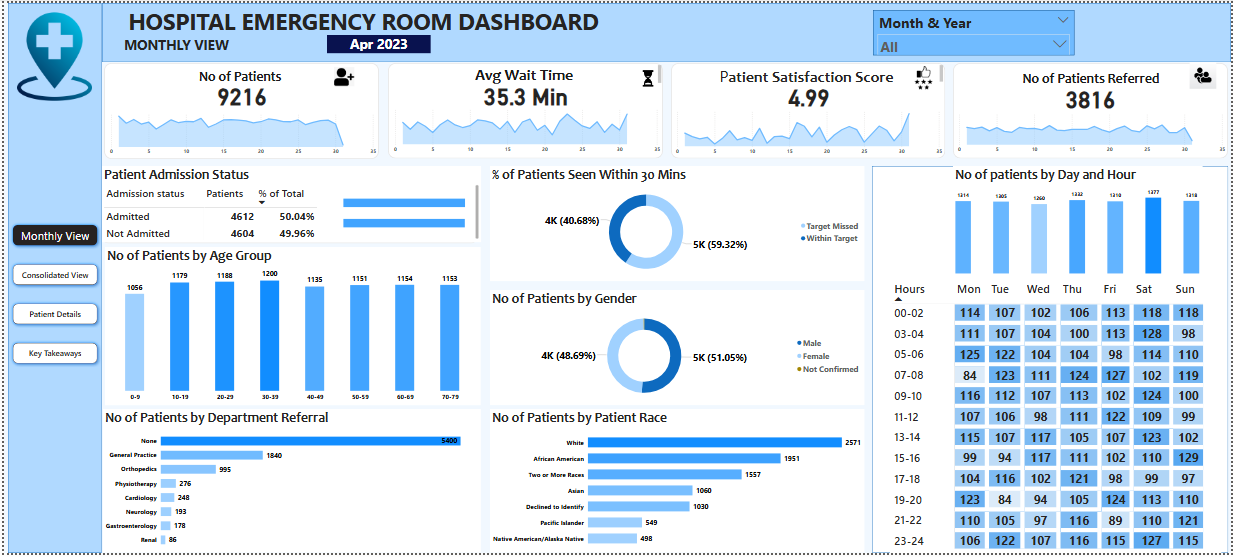

This screenshot's page, from the dashboard's own definition file:
{"tool":"powerbi","page":{"name":"Monthly View","canvas":[2900,1300],"ordinal":0},"visuals":[{"type":"shape","box":[10.4,0,221,1300],"z":0},{"type":"shape","box":[237,142.8,650,226.9],"z":1000},{"type":"shape","box":[231.6,0,2668.5,139.5],"z":2000},{"type":"textbox","box":[278.2,0,1141.4,91],"z":3000},{"type":"textbox","box":[278.2,70.2,330.2,65],"z":4000},{"type":"card","fields":{"Values":["Hospital ER_Data.No of patients"]},"box":[411.6,177.6,301.3,75.3],"z":5000},{"type":"slicer","fields":{"Values":["Date Table.Month & Year"]},"box":[2053.7,17.1,475.6,107.3],"z":8000},{"type":"textbox","box":[634.4,795.6,325,93.6],"z":9000},{"type":"textbox","box":[236.7,148,642.9,56.5],"z":10000},{"type":"areaChart","fields":{"Category":["Date Table.Date.Variation.Date Hierarchy.Day"],"Y":["Hospital ER_Data.No of patients"]},"box":[239.4,247.5,648.3,121.1],"z":11000},{"type":"card","fields":{"Values":["Min(Date Table.Month & Year)"]},"box":[764,75.3,244.8,43],"z":12000},{"type":"shape","box":[907.5,142.8,650,226],"z":13000},{"type":"card","fields":{"Values":["Hospital ER_Data.Avg Wait Time"]},"box":[1081.4,177.6,301.3,75.3],"z":14000},{"type":"textbox","box":[906.6,142.6,651,53.8],"z":15000},{"type":"areaChart","fields":{"Category":["Date Table.Date.Variation.Date Hierarchy.Day"],"Y":["Avg(Hospital ER_Data.Patient Waittime)"]},"box":[909.3,236.7,648.3,126.4],"z":16000},{"type":"shape","box":[1576.4,142.6,648.3,226],"z":17000},{"type":"card","fields":{"Values":["Hospital ER_Data.Patient_Satisfaction score"]},"box":[1751.3,180.2,301.3,75.3],"z":18000},{"type":"textbox","box":[1576.4,142.6,648.3,53.8],"z":19000},{"type":"areaChart","fields":{"Category":["Date Table.Date.Variation.Date Hierarchy.Day"],"Y":["Hospital ER_Data.Patient_Satisfaction score"]},"box":[1576.4,242.1,648.3,126.4],"z":20000},{"type":"shape","box":[2243.6,142.6,650,226],"z":21000},{"type":"card","fields":{"Values":["Hospital ER_Data.No of Patients Referred"]},"box":[2434.6,185.6,266.3,69.9],"z":22000},{"type":"textbox","box":[2243.6,153.3,651,53.8],"z":23000},{"type":"areaChart","fields":{"Category":["Date Table.Date.Variation.Date Hierarchy.Day"],"Y":["Hospital ER_Data.No of Patients Referred"]},"box":[2243.6,247.5,651,115.7],"z":24000},{"type":"shape","box":[231.4,384.7,887.8,182.9],"z":25000},{"type":"pivotTable","title":"Patient Admission Status","fields":{"Rows":["Hospital ER_Data.Admission status"],"Values":["Hospital ER_Data.No of patients1","Hospital ER_Data.No of patients"]},"box":[231.4,384.7,895.8,180.2],"z":26000},{"type":"barChart","fields":{"Y":["Hospital ER_Data.No of patients"],"Category":["Hospital ER_Data.Admission status"]},"box":[795.6,426.4,322.4,137.8],"z":27000},{"type":"clusteredColumnChart","title":"No of Patients by Age Group","fields":{"Category":["Hospital ER_Data.Age Group"],"Y":["Hospital ER_Data.No of patients"]},"box":[239.4,575.7,887.8,373.9],"z":28000},{"type":"clusteredBarChart","title":"No of Patients by Department Referral","fields":{"Category":["Hospital ER_Data.Department Referral"],"Y":["Hospital ER_Data.No of patients"]},"box":[234,960.4,893.1,339],"z":29000},{"type":"donutChart","title":"% of Patients Seen Within 30 Mins","fields":{"Category":["Hospital ER_Data.Waittime Status"],"Y":["Hospital ER_Data.No of patients"]},"box":[1148.7,384.7,885.1,271.7],"z":30000},{"type":"donutChart","title":"No of Patients by Gender","fields":{"Y":["Hospital ER_Data.No of patients"],"Category":["Hospital ER_Data.Patient Gender"]},"box":[1148.7,677.9,885.1,271.7],"z":31000},{"type":"clusteredBarChart","title":"No of Patients by Patient Race","fields":{"Y":["Hospital ER_Data.No of patients"],"Category":["Hospital ER_Data.Patient Race"]},"box":[1148.7,960.4,885.1,339],"z":32000},{"type":"shape","box":[2052.6,384.7,842,914.7],"z":33000},{"type":"pivotTable","fields":{"Rows":["Hospital ER_Data.Waittime Interval"],"Columns":["Date Table.Day Name"],"Values":["Hospital ER_Data.No of patients"]},"box":[2093,650,782.6,650],"z":34000},{"type":"columnChart","title":"No of patients by Day and Hour","fields":{"Category":["Date Table.Day Name"],"Y":["Hospital ER_Data.No of patients"]},"box":[2243.8,384.8,590.2,260],"z":35000},{"type":"image","box":[9.7,16.2,219.8,219.8],"z":36000},{"type":"image","box":[2784.6,135.2,98.8,72.8],"z":37000},{"type":"image","box":[1487.2,153.4,70.2,49.4],"z":38000},{"type":"image","box":[2121.6,143,101.4,65],"z":39000},{"type":"image","box":[727.4,145.5,152,55],"z":40000},{"type":"pageNavigator","box":[10.8,516.2,218.9,348.6],"z":40001}]}

Visuals, with their boxes in screenshot pixels (x1, y1, x2, y2), scaled from the page's 2900x1300 canvas onto the 1233x557 screenshot:
shape: box(4, 0, 98, 556)
shape: box(101, 61, 377, 158)
shape: box(98, 0, 1232, 60)
textbox: box(118, 0, 604, 39)
textbox: box(118, 30, 259, 58)
card - Hospital ER_Data.No of patients: box(175, 76, 303, 108)
slicer - Date Table.Month & Year: box(873, 7, 1075, 53)
textbox: box(270, 341, 408, 381)
textbox: box(101, 63, 374, 88)
areaChart - Date Table.Date.Variation.Date Hierarchy.Day x Hospital ER_Data.No of patients: box(102, 106, 377, 158)
card - Min(Date Table.Month & Year): box(325, 32, 429, 51)
shape: box(386, 61, 662, 158)
card - Hospital ER_Data.Avg Wait Time: box(460, 76, 588, 108)
textbox: box(385, 61, 662, 84)
areaChart - Date Table.Date.Variation.Date Hierarchy.Day x Avg(Hospital ER_Data.Patient Waittime): box(387, 101, 662, 156)
shape: box(670, 61, 946, 158)
card - Hospital ER_Data.Patient_Satisfaction score: box(745, 77, 873, 109)
textbox: box(670, 61, 946, 84)
areaChart - Date Table.Date.Variation.Date Hierarchy.Day x Hospital ER_Data.Patient_Satisfaction score: box(670, 104, 946, 158)
shape: box(954, 61, 1230, 158)
card - Hospital ER_Data.No of Patients Referred: box(1035, 80, 1148, 109)
textbox: box(954, 66, 1231, 89)
areaChart - Date Table.Date.Variation.Date Hierarchy.Day x Hospital ER_Data.No of Patients Referred: box(954, 106, 1231, 156)
shape: box(98, 165, 476, 243)
"Patient Admission Status" pivotTable: box(98, 165, 479, 242)
barChart - Hospital ER_Data.No of patients x Hospital ER_Data.Admission status: box(338, 183, 475, 242)
"No of Patients by Age Group" clusteredColumnChart: box(102, 247, 479, 407)
"No of Patients by Department Referral" clusteredBarChart: box(99, 411, 479, 556)
"% of Patients Seen Within 30 Mins" donutChart: box(488, 165, 865, 281)
"No of Patients by Gender" donutChart: box(488, 290, 865, 407)
"No of Patients by Patient Race" clusteredBarChart: box(488, 411, 865, 556)
shape: box(873, 165, 1231, 556)
pivotTable - Hospital ER_Data.Waittime Interval x Date Table.Day Name: box(890, 278, 1223, 556)
"No of patients by Day and Hour" columnChart: box(954, 165, 1205, 276)
image: box(4, 7, 98, 101)
image: box(1184, 58, 1226, 89)
image: box(632, 66, 662, 87)
image: box(902, 61, 945, 89)
image: box(309, 62, 374, 86)
pageNavigator: box(5, 221, 98, 371)
